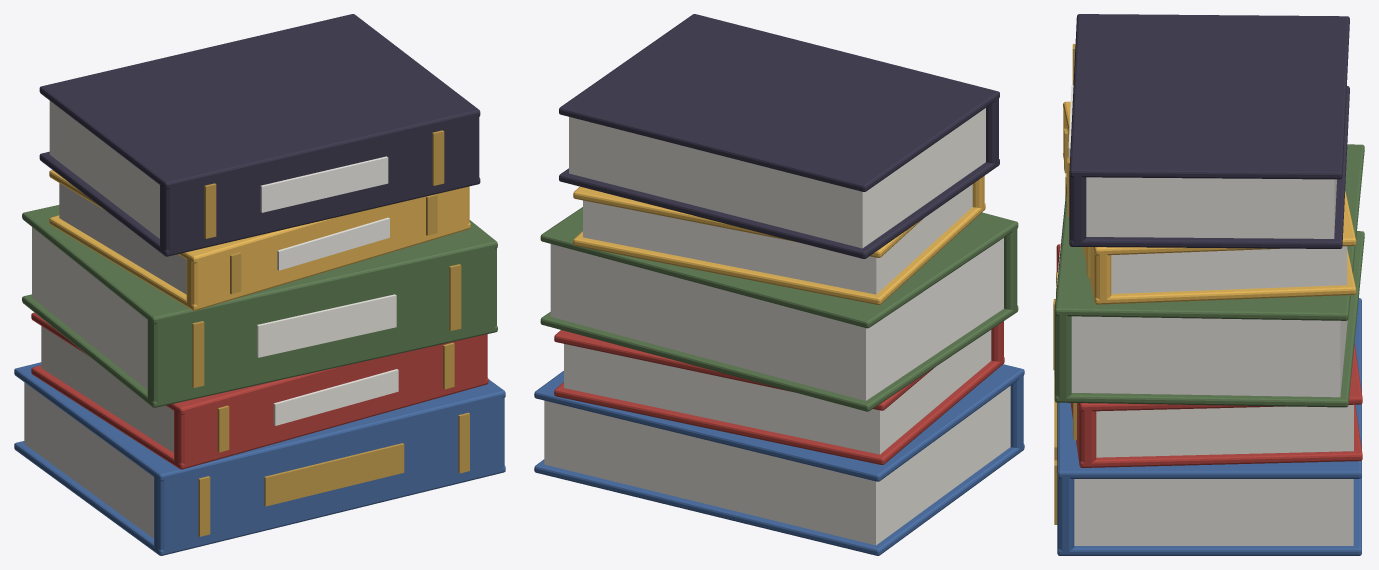
File: hh_cat_book_stack.glb
3 views of the same model, side by side, from view 1: azimuth 30°, elevation 25°; view 2: azimuth 150°, elevation 25°; view 3: azimuth 270°, elevation 25° (orthographic). The views are drawn at different scales.
Parts seen in each view (by area): view 1: cover.009, spine.002, spine, spine.004, spine.001, spine.003, cover.005, pages.002, pages, cover.001, pages.004, pages.001 (+19 smaller); view 2: cover.009, pages.002, pages, pages.004, pages.001, pages.003, cover.005, cover.001, cover, cover.004, cover.002, cover.008 (+6 smaller); view 3: cover.009, pages.002, pages, pages.004, pages.001, pages.003, cover.005, cover.001, cover.004, cover.008, cover, cover.002 (+8 smaller).
Boxes of the visible parts, x1,y1,x2,y2 form: cover.009: [39, 14, 480, 189]; spine.002: [147, 244, 496, 402]; spine: [154, 388, 504, 551]; spine.004: [160, 107, 479, 252]; spine.001: [174, 334, 487, 464]; spine.003: [186, 186, 469, 305]; cover.005: [22, 205, 497, 324]; pages.002: [32, 227, 147, 389]; pages: [24, 382, 153, 538]; cover.001: [14, 362, 505, 481]; pages.004: [49, 101, 159, 238]; pages.001: [41, 326, 173, 452]; cover.009: [559, 14, 999, 191]; pages.002: [550, 238, 1003, 400]; pages: [544, 386, 1010, 545]; pages.004: [569, 108, 985, 248]; pages.001: [564, 330, 991, 454]; pages.003: [583, 184, 972, 294]; cover.005: [540, 207, 1018, 328]; cover.001: [534, 364, 1024, 481]; cover: [534, 444, 1024, 555]; cover.004: [540, 305, 1018, 411]; cover.002: [554, 357, 1004, 464]; cover.008: [559, 159, 999, 258]; cover.009: [1069, 14, 1349, 179]; pages.002: [1071, 316, 1347, 397]; pages: [1074, 479, 1353, 545]; pages.004: [1086, 177, 1336, 238]; pages.001: [1096, 404, 1353, 457]; pages.003: [1111, 246, 1347, 293]; cover.005: [1054, 144, 1364, 320]; cover.001: [1057, 298, 1361, 478]; cover.004: [1054, 231, 1364, 407]; cover.008: [1069, 86, 1349, 248]; cover: [1057, 477, 1361, 555]; cover.002: [1070, 403, 1362, 467].
Size of the model in its own units: 0.2 by 0.2 by 0.15.
